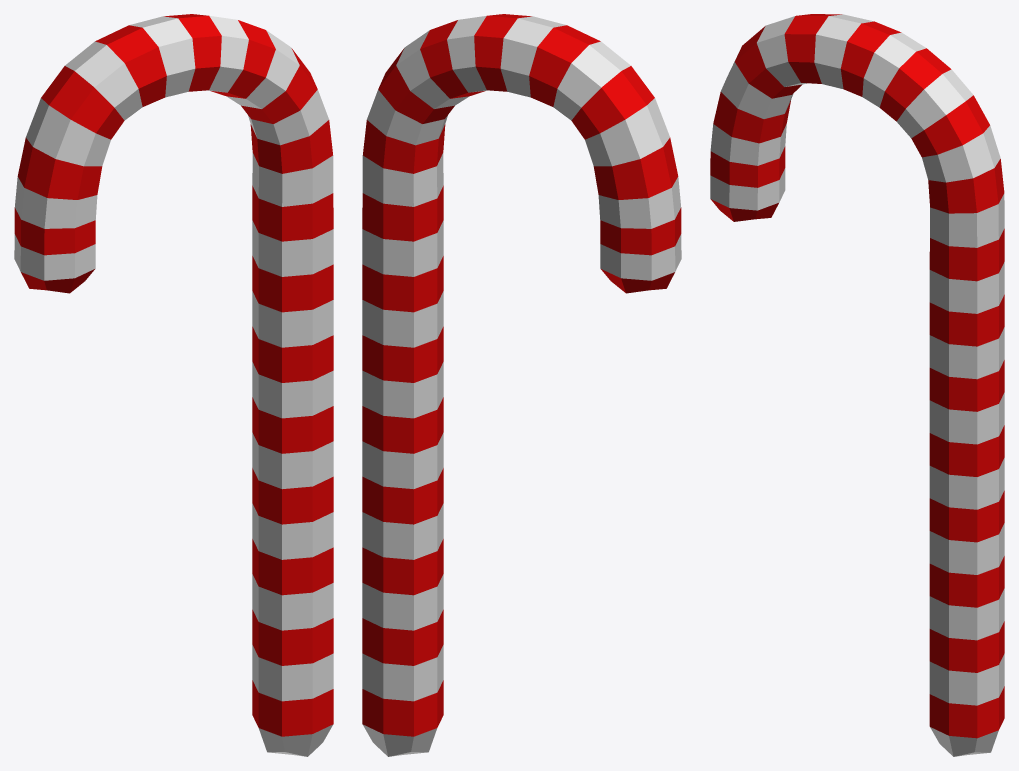
The model's file is CandyCane.fbx.
3 views of the same model, side by side, from view 1: azimuth 30°, elevation 25°; view 2: azimuth 150°, elevation 25°; view 3: azimuth 330°, elevation 25° (orthographic). The views are drawn at different scales.
Visible parts, largest first — view 1: CandyCane; view 2: CandyCane; view 3: CandyCane.
Part boxes in pixels (left/top/right/bottom): CandyCane: left=14, top=14, right=333, bottom=756; CandyCane: left=362, top=14, right=681, bottom=756; CandyCane: left=710, top=14, right=1004, bottom=756.
Bounding box in the file's own units: 15.18 × 36.17 × 3.4.
